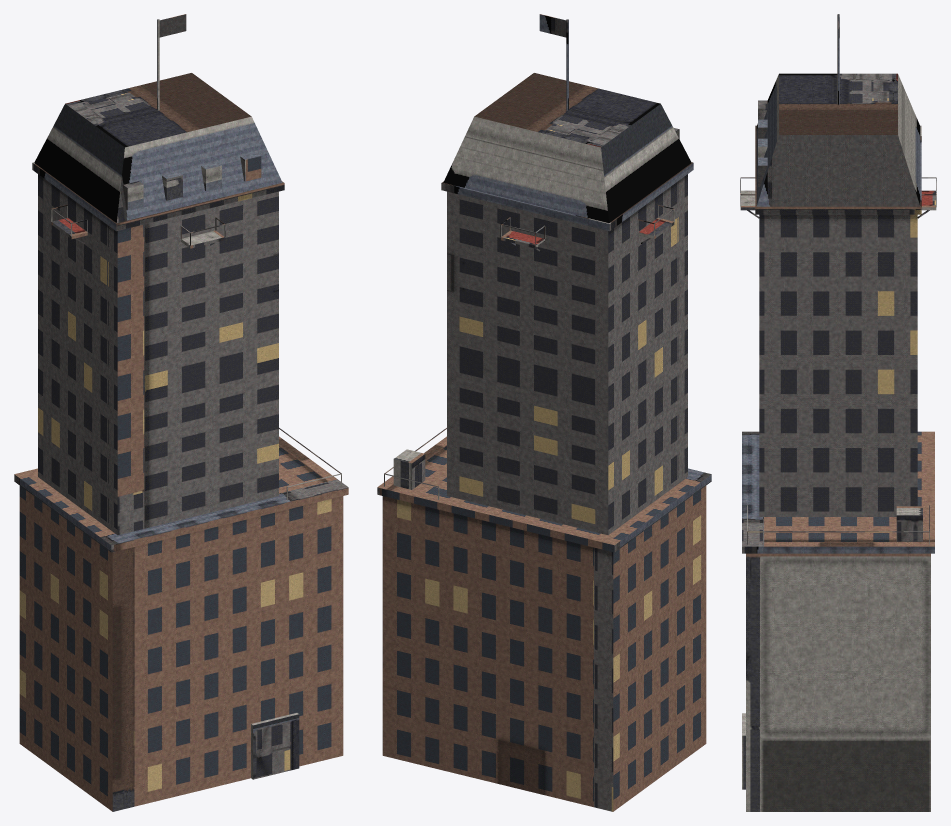
Rendered from SM_Tower_Office_B.fbx.
The picture shows the model from 3 angles, left to right: view 1: azimuth 30°, elevation 25°; view 2: azimuth 150°, elevation 25°; view 3: azimuth 270°, elevation 25°; orthographic projection.
Visible parts, largest first — view 1: SM_Tower_Office_B; view 2: SM_Tower_Office_B; view 3: SM_Tower_Office_B.
Boxes of the visible parts, x1,y1,x2,y2 form: SM_Tower_Office_B: (14, 14, 348, 811); SM_Tower_Office_B: (377, 14, 711, 811); SM_Tower_Office_B: (740, 14, 936, 811).
Size of what is drawn, in the model's own units: 2073 by 6100 by 1486.
Materials: 1 (1 with a texture image).
